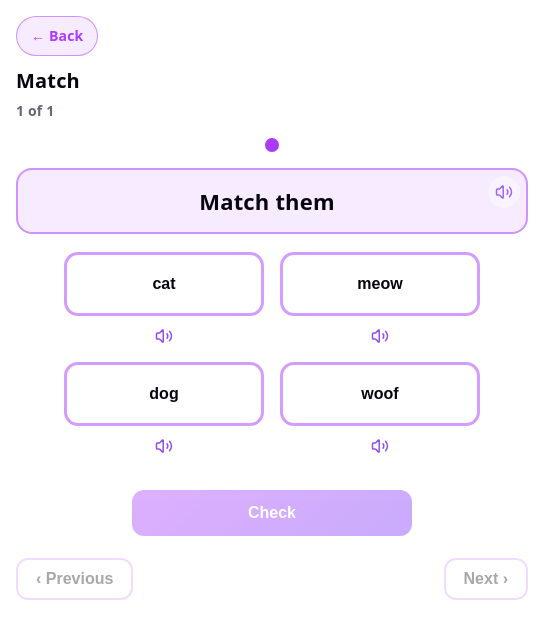
Test case: BundlePlayer — match pairs › links every left to a right and submits the map
expect the text "Match them" is shown: met, box [199,188,335,214]
Click the button "cat" at point(164, 284), box [64,252,264,316]
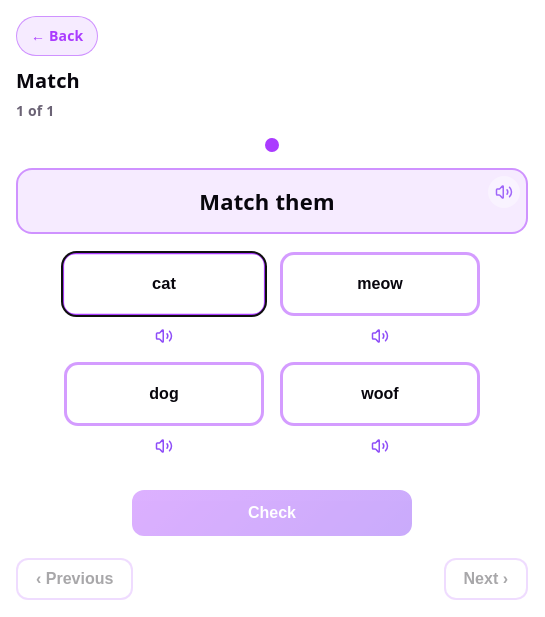
Click the button "meow" at point(380, 284), box [280,252,480,316]
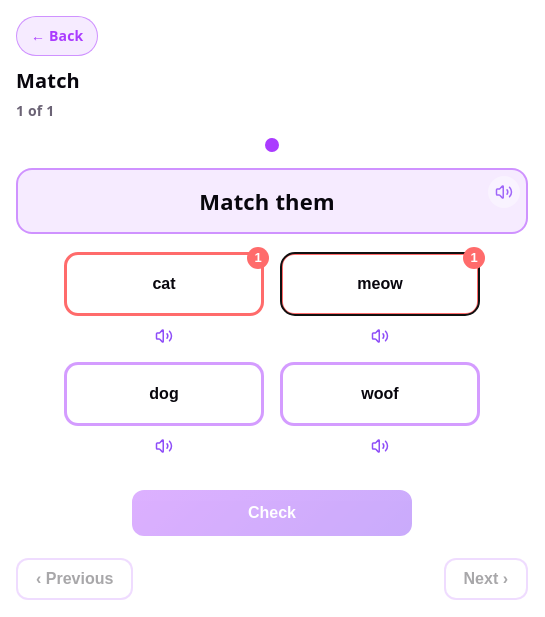
Click the button "dog" at point(164, 394), box [64,362,264,426]
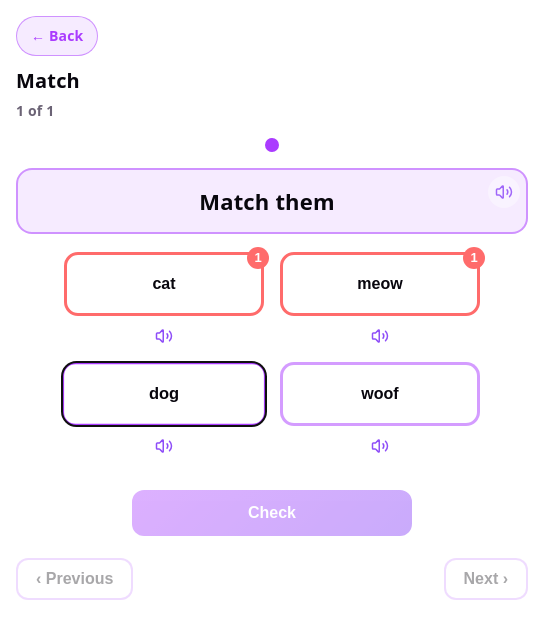
Click the button "woof" at point(380, 394), box [280,362,480,426]
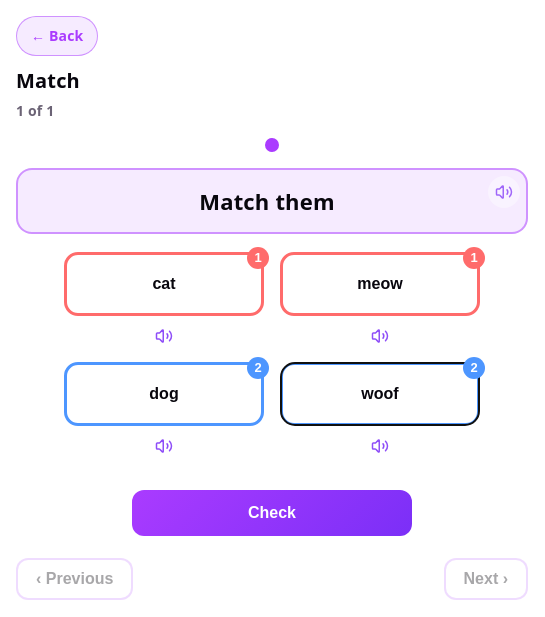
Click the button "Check" at point(272, 513), box [132,490,412,536]
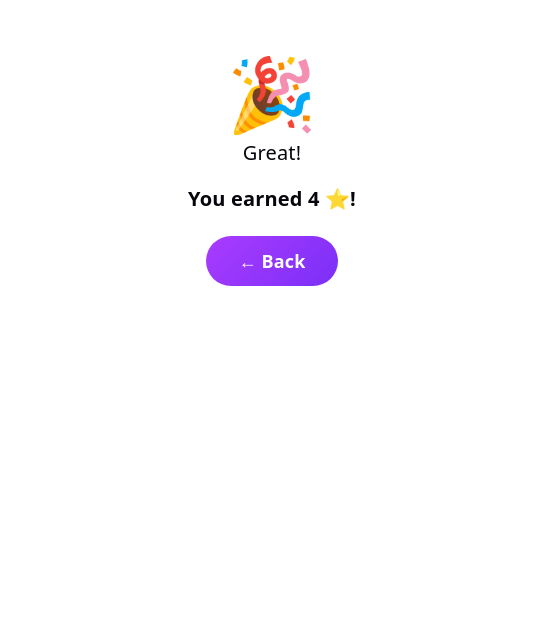
expect the heading "Great!" is shown: met, box [243,139,301,166]
expect the text "You earned 4 ⭐!" is shown: met, box [188,185,356,212]
